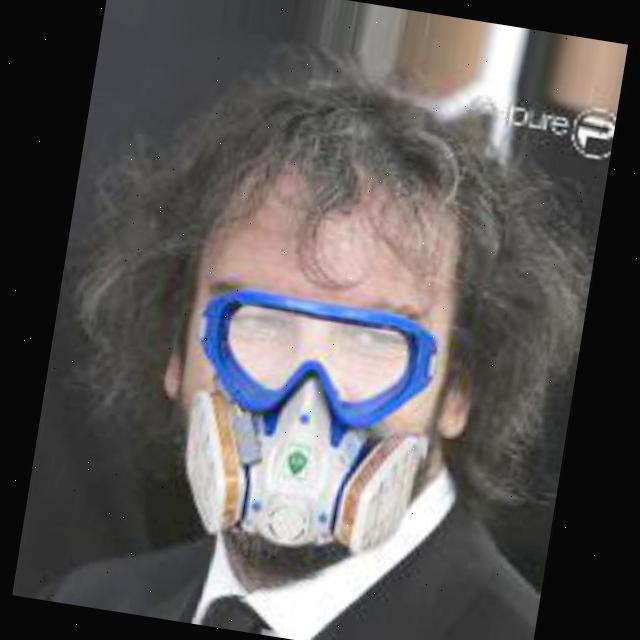suspicion: (166, 150, 480, 564)
